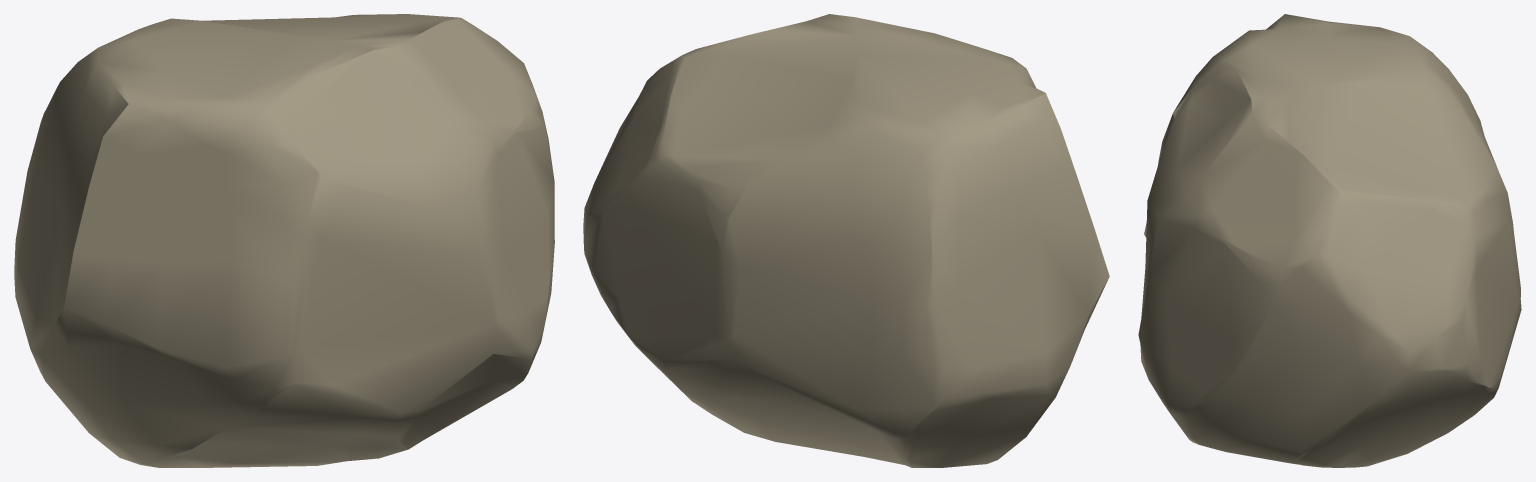
The model's file is environment_rock_3.glb.
3 renders of one model, left to right at view 1: azimuth 30°, elevation 25°; view 2: azimuth 150°, elevation 25°; view 3: azimuth 270°, elevation 25°, orthographic. The views are drawn at different scales.
Parts seen in each view (by area): view 1: Environment_Rock_3; view 2: Environment_Rock_3; view 3: Environment_Rock_3.
Part boxes in pixels (bbox=[...]): Environment_Rock_3: bbox=[14, 14, 554, 467]; Environment_Rock_3: bbox=[583, 14, 1109, 467]; Environment_Rock_3: bbox=[1138, 14, 1521, 467].
Bounding box in the file's own units: 0.77 × 0.6117 × 0.5839.
1 material, 1 textured.
